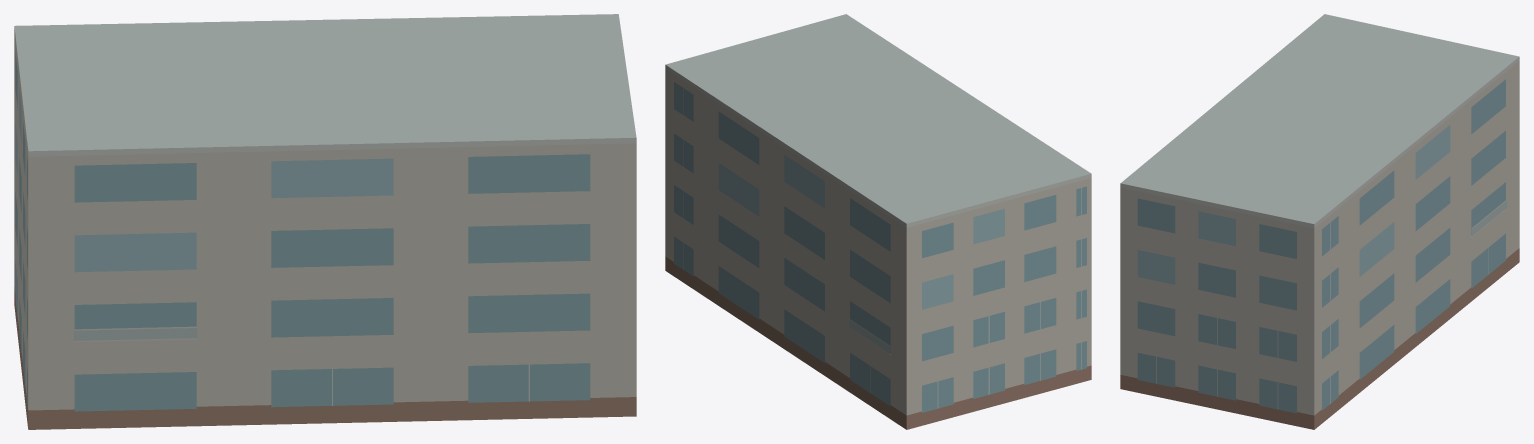
Rendered from survey-upis-32947954.glb.
The picture shows the model from 3 angles, left to right: view 1: azimuth 30°, elevation 25°; view 2: azimuth 150°, elevation 25°; view 3: azimuth 270°, elevation 25°; orthographic projection. The views are drawn at different scales.
Visible parts, largest first — view 1: survey-upis-32947954.tmp; view 2: survey-upis-32947954.tmp; view 3: survey-upis-32947954.tmp.
Part boxes in pixels (x1=…): survey-upis-32947954.tmp: x1=14, y1=14, x2=636, y2=429; survey-upis-32947954.tmp: x1=665, y1=14, x2=1091, y2=429; survey-upis-32947954.tmp: x1=1120, y1=14, x2=1519, y2=429.
Bounding box in the file's own units: 26.74 × 12.2 × 21.46.
